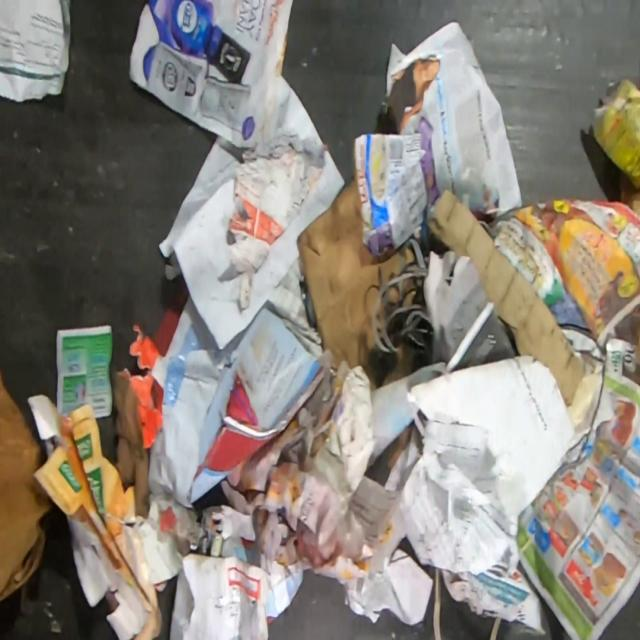cardboard: (297, 172, 416, 368), (0, 367, 53, 603), (112, 323, 163, 518)
